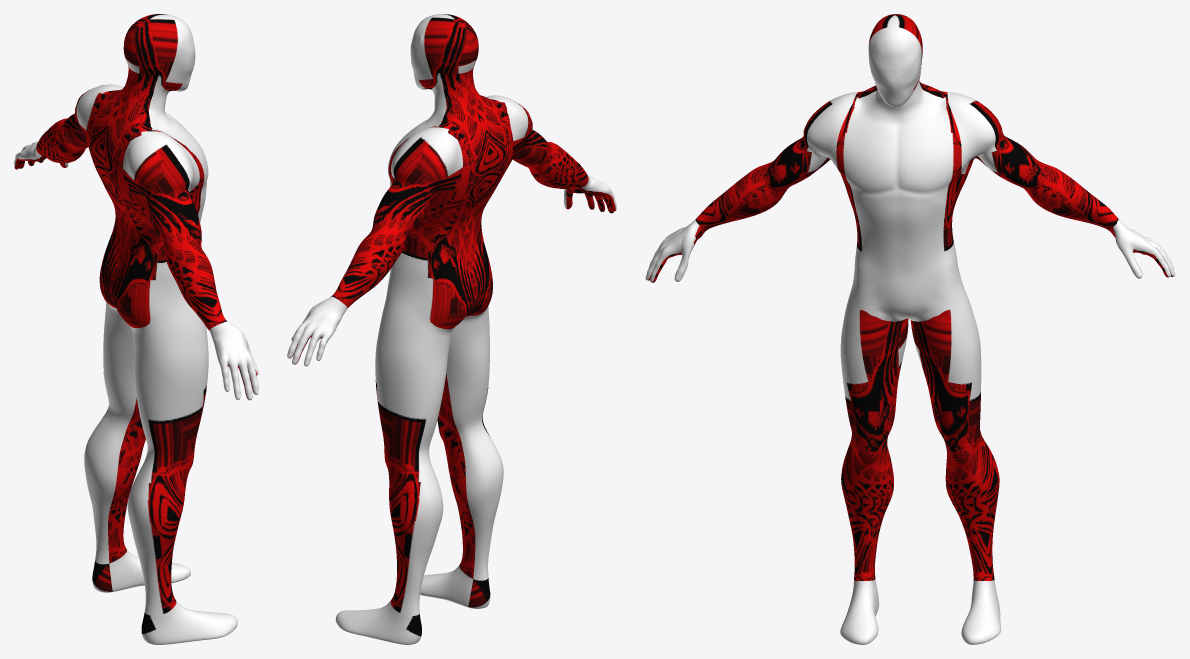
File: anatomia2.gltf
The picture shows the model from 3 angles, left to right: view 1: azimuth 30°, elevation 25°; view 2: azimuth 150°, elevation 25°; view 3: azimuth 270°, elevation 25°; orthographic projection. The views are drawn at different scales.
Parts seen in each view (by area): view 1: BaseSpiderMan_Mesh_Model001_24_GTAMtl_1.0_0.0_0.001; view 2: BaseSpiderMan_Mesh_Model001_24_GTAMtl_1.0_0.0_0.001; view 3: BaseSpiderMan_Mesh_Model001_24_GTAMtl_1.0_0.0_0.001.
Part boxes in pixels (left/top/right/bottom): BaseSpiderMan_Mesh_Model001_24_GTAMtl_1.0_0.0_0.001: left=14, top=14, right=258, bottom=644; BaseSpiderMan_Mesh_Model001_24_GTAMtl_1.0_0.0_0.001: left=287, top=14, right=616, bottom=644; BaseSpiderMan_Mesh_Model001_24_GTAMtl_1.0_0.0_0.001: left=645, top=14, right=1175, bottom=644.
Size of the model in its own units: 2.25 by 10.46 by 8.4.
Materials: 1 (1 with a texture image).
